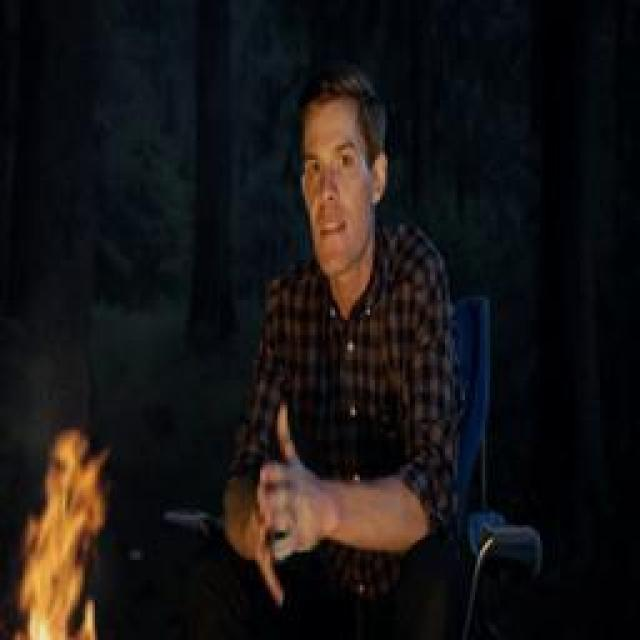Fire: (15, 432, 110, 640)
